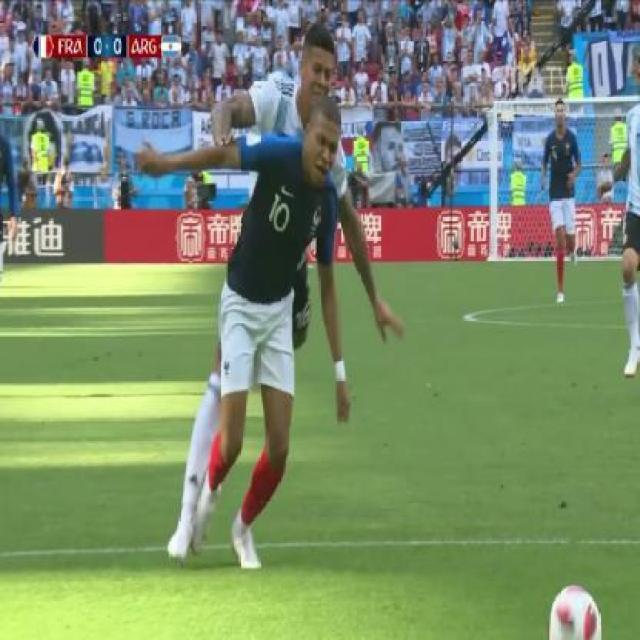ball: (545, 577, 607, 640)
player: (150, 15, 376, 568), (539, 86, 585, 306), (613, 66, 639, 383)
